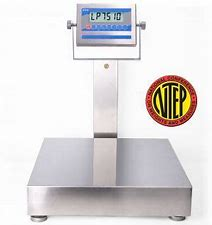Industrial Scale: (24, 2, 192, 221)
